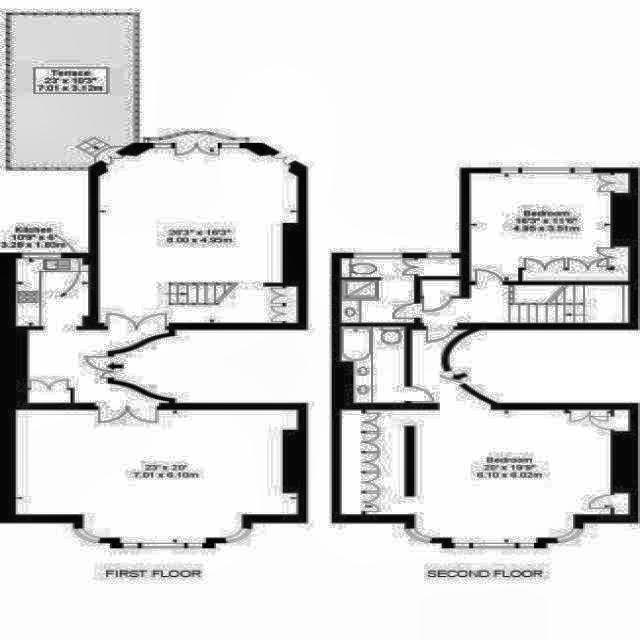room: (339, 410, 631, 543), (16, 410, 299, 543), (98, 148, 298, 324), (15, 258, 169, 403), (469, 173, 630, 282), (420, 284, 631, 323), (340, 258, 461, 323), (339, 326, 406, 404), (420, 280, 461, 296)
